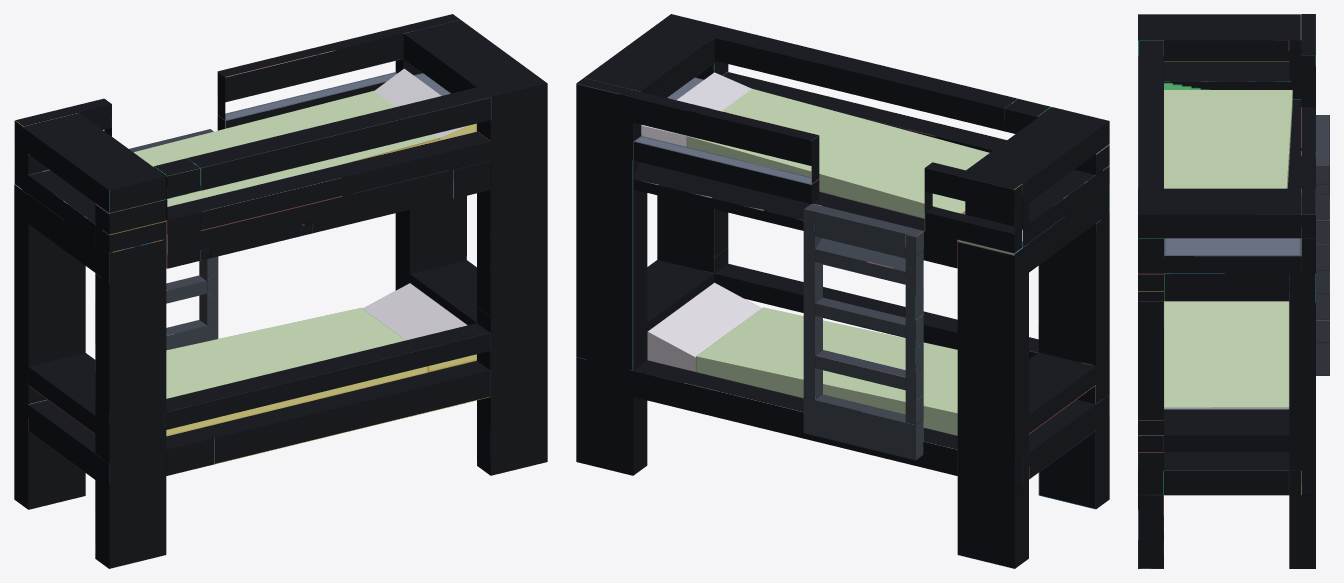
File: ranza.obj
3 views of the same model, side by side, from view 1: azimuth 30°, elevation 25°; view 2: azimuth 150°, elevation 25°; view 3: azimuth 270°, elevation 25° (orthographic). The views are drawn at different scales.
Visible parts, largest first — view 1: cube; view 2: cube; view 3: cube.
Boxes of the visible parts, x1,y1,x2,y2 form: cube: (14, 14, 547, 568); cube: (576, 14, 1109, 568); cube: (1138, 14, 1329, 568).
Size of the model in its own units: 2 by 1.65 by 0.8084.
